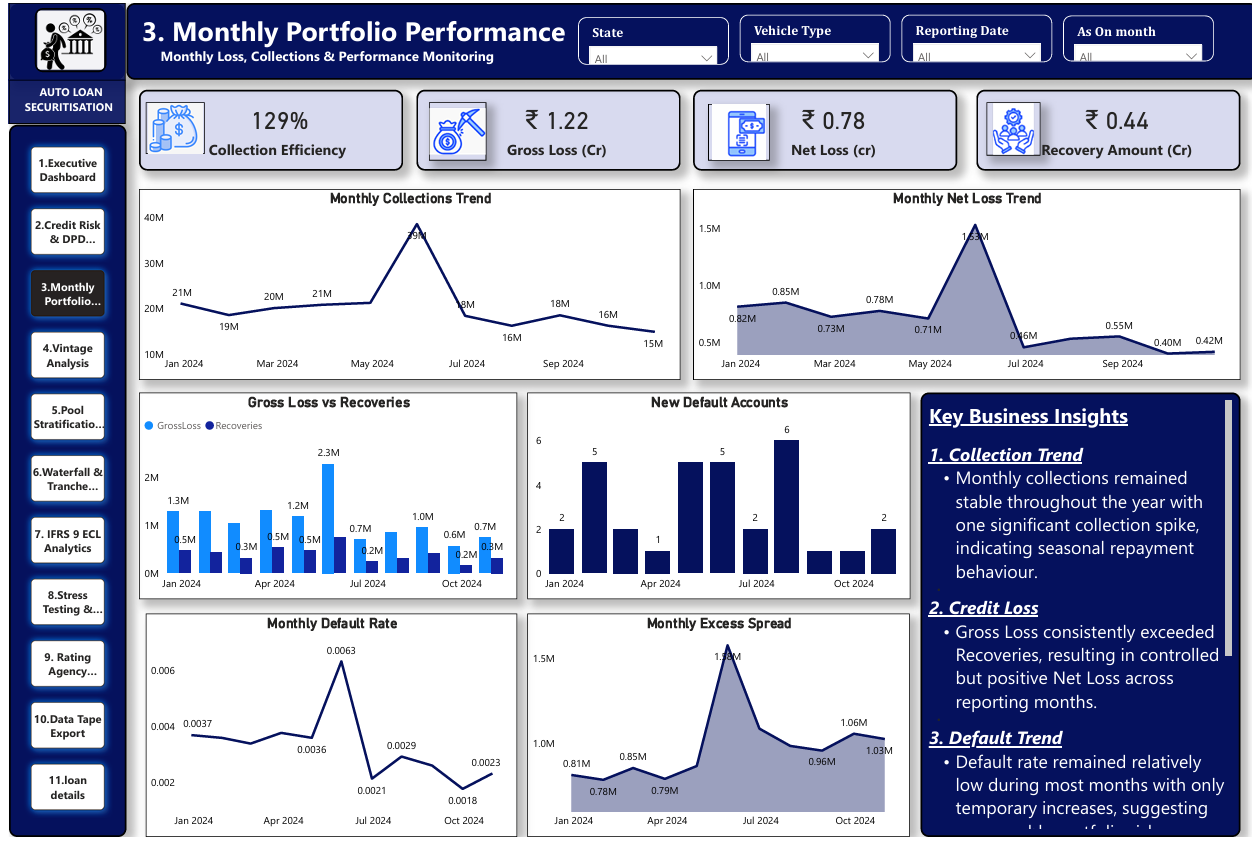

This screenshot's page, from the dashboard's own definition file:
{"tool":"powerbi","page":{"name":"3.Monthly Portfolio Performance","canvas":[1500,1000],"ordinal":2},"visuals":[{"type":"shape","box":[0,0,139.9,92.9],"z":0},{"type":"textbox","box":[140.8,0,1358.9,92.2],"z":1000},{"type":"image","box":[31.4,6,85.7,77.2],"z":2000},{"type":"textbox","box":[0,91.7,139.9,53.1],"z":3000},{"type":"slicer","fields":{"Values":["Loan Master.State"]},"box":[682.8,16.9,181,56.7],"z":4000},{"type":"slicer","fields":{"Values":["Loan Master.VehicleType"]},"box":[877.1,14.5,181,56.7],"z":5000},{"type":"slicer","fields":{"Values":["Monthly Loss.ReportingDate"]},"box":[1071.3,14.5,181,56.7],"z":6000},{"type":"slicer","fields":{"Values":["Calendar.Month"]},"box":[1265.1,15.1,181,55.3],"z":7000},{"type":"lineChart","title":"Monthly Collections Trend","fields":{"Y":["Sum(Monthly Loss.CollectionsTotal)"],"Category":["Monthly Loss.ReportingDate"]},"box":[155.8,222.9,650.1,229.6],"z":8000},{"type":"card","fields":{"Values":["Monthly Loss.Collection Efficiency %"]},"box":[155.8,103.9,316.7,97.2],"z":9000},{"type":"card","fields":{"Values":["Monthly Loss.Gross Loss (Cr)"]},"box":[489.3,103.9,316.7,97.2],"z":10000},{"type":"card","fields":{"Values":["Monthly Loss.Net Loss (cr)"]},"box":[821,103.9,316.7,97.2],"z":11000},{"type":"card","fields":{"Values":["Monthly Loss.Recovery Amount (Cr)"]},"box":[1161.2,103.9,316.7,97.2],"z":12000},{"type":"pageNavigator","box":[0,145.8,140.8,854.6],"z":13000},{"type":"image","box":[504.4,119,68.7,70.4],"z":14000},{"type":"image","box":[164.2,119,70.4,62],"z":15000},{"type":"image","box":[1172.9,119,65.3,63.7],"z":16000},{"type":"areaChart","title":"Monthly Net Loss Trend","fields":{"Category":["Monthly Loss.ReportingDate"],"Y":["Sum(Monthly Loss.NetLoss_ThisMonth)"]},"box":[821,222.9,656.8,229.6],"z":17000},{"type":"clusteredColumnChart","title":"Gross Loss vs Recoveries","fields":{"Category":["Monthly Loss.ReportingDate"],"Y":["Sum(Monthly Loss.GrossLoss_ThisMonth)","Sum(Monthly Loss.Recoveries_ThisMonth)"]},"box":[155.8,467.5,454.1,248],"z":18000},{"type":"clusteredColumnChart","title":"New Default Accounts","fields":{"Category":["Monthly Loss.ReportingDate"],"Y":["Sum(Monthly Loss.NewDefaults_Count)"]},"box":[621.7,467.5,460.8,248],"z":19000},{"type":"lineChart","title":"Monthly Default Rate","fields":{"Y":["Sum(Monthly Loss.MonthlyDefaultRate)"],"Category":["Monthly Loss.ReportingDate"]},"box":[164.2,732.2,445.7,268.1],"z":20000},{"type":"areaChart","title":"Monthly Excess Spread","fields":{"Category":["Monthly Loss.ReportingDate"],"Y":["Sum(Monthly Loss.ExcessSpread_Monthly)"]},"box":[621.7,732.2,459.1,268.1],"z":21000},{"type":"image","box":[839.5,120.6,73.7,68.7],"z":22000},{"type":"textbox","box":[1094.2,467.5,383.7,532.8],"z":23000}]}

Visuals, with their boxes on the page's 1500x1000 design canvas (x1, y1, x2, y2). These are canvas units, not pixel positions in the 1252x850 screenshot, which may show the page scaled, cropped or inside an application window:
shape: locate(0, 0, 140, 93)
textbox: locate(141, 0, 1500, 92)
image: locate(31, 6, 117, 83)
textbox: locate(0, 92, 140, 145)
slicer - Loan Master.State: locate(683, 17, 864, 74)
slicer - Loan Master.VehicleType: locate(877, 14, 1058, 71)
slicer - Monthly Loss.ReportingDate: locate(1071, 14, 1252, 71)
slicer - Calendar.Month: locate(1265, 15, 1446, 70)
"Monthly Collections Trend" lineChart: locate(156, 223, 806, 452)
card - Monthly Loss.Collection Efficiency %: locate(156, 104, 472, 201)
card - Monthly Loss.Gross Loss (Cr): locate(489, 104, 806, 201)
card - Monthly Loss.Net Loss (cr): locate(821, 104, 1138, 201)
card - Monthly Loss.Recovery Amount (Cr): locate(1161, 104, 1478, 201)
pageNavigator: locate(0, 146, 141, 1000)
image: locate(504, 119, 573, 189)
image: locate(164, 119, 235, 181)
image: locate(1173, 119, 1238, 183)
"Monthly Net Loss Trend" areaChart: locate(821, 223, 1478, 452)
"Gross Loss vs Recoveries" clusteredColumnChart: locate(156, 468, 610, 716)
"New Default Accounts" clusteredColumnChart: locate(622, 468, 1082, 716)
"Monthly Default Rate" lineChart: locate(164, 732, 610, 1000)
"Monthly Excess Spread" areaChart: locate(622, 732, 1081, 1000)
image: locate(840, 121, 913, 189)
textbox: locate(1094, 468, 1478, 1000)
